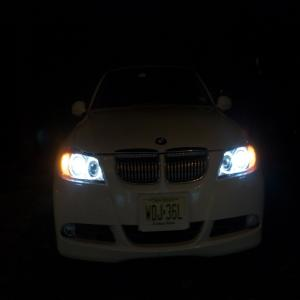Vehicle-registration-plate: (145, 199, 187, 229)
